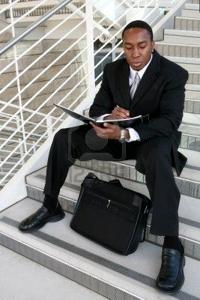person: (19, 21, 187, 291)
